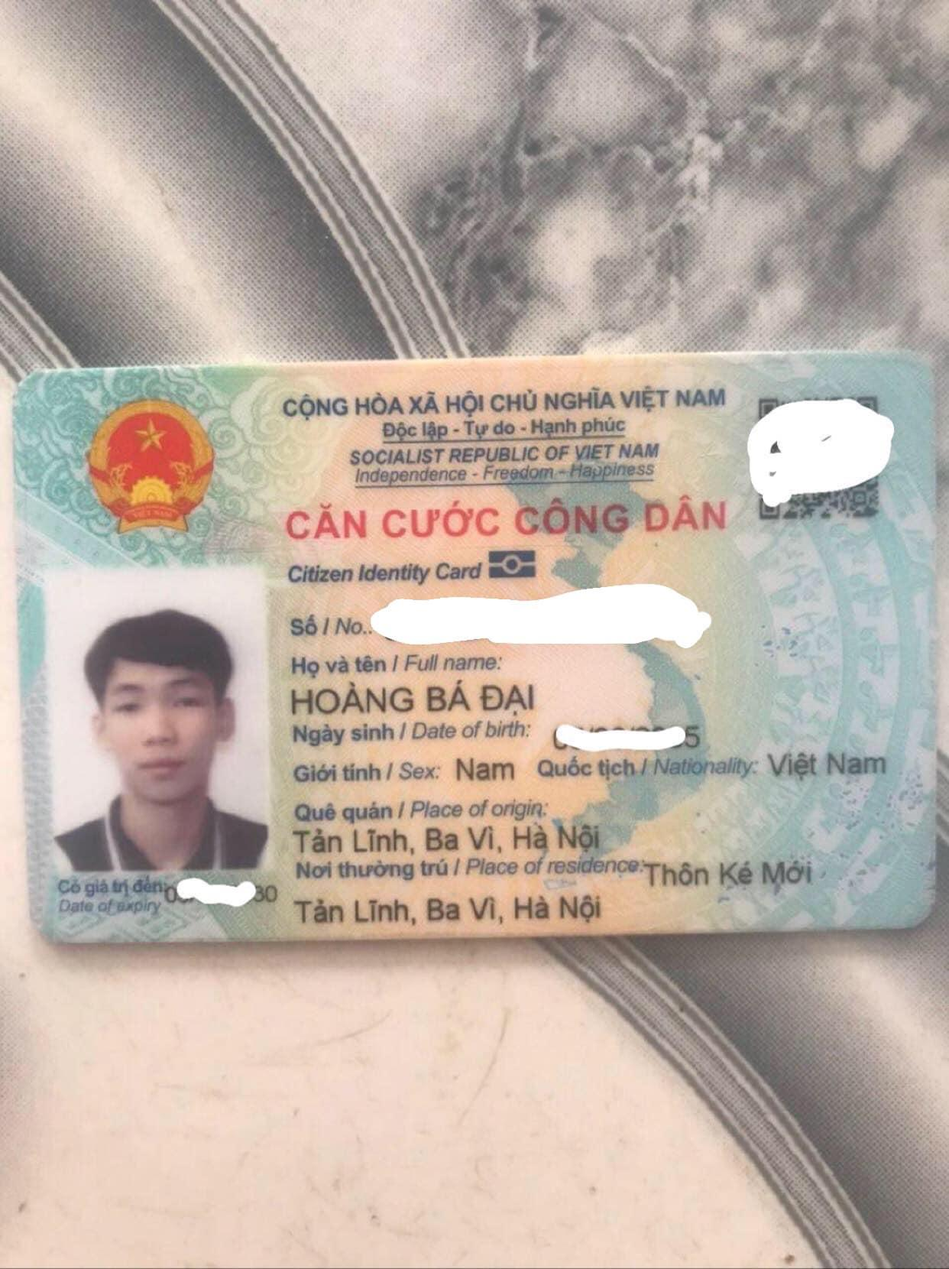bottom_left: (21, 906, 99, 956)
bottom_right: (898, 891, 942, 943)
image_person: (34, 560, 285, 869)
top_left: (8, 372, 47, 413)
top_right: (886, 339, 949, 396)
